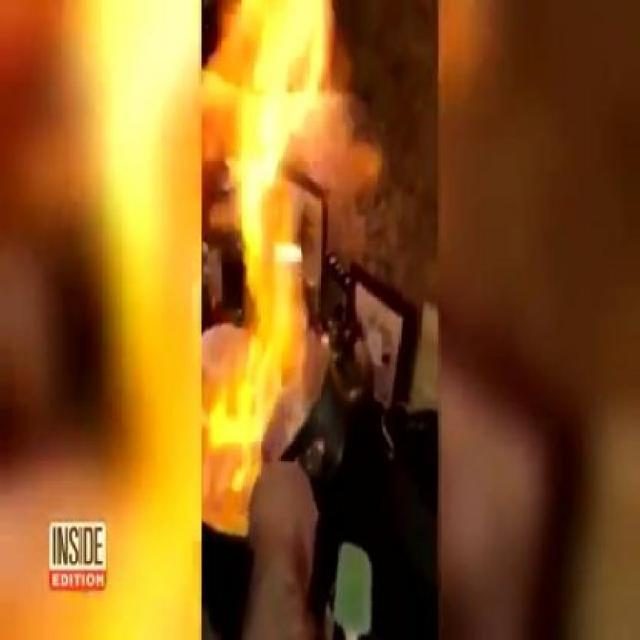fire: (226, 73, 314, 429)
